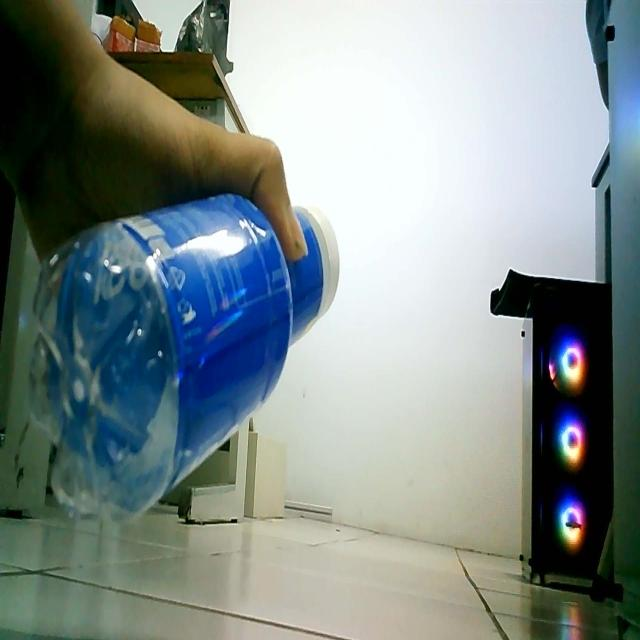botol: (12, 167, 361, 567)
